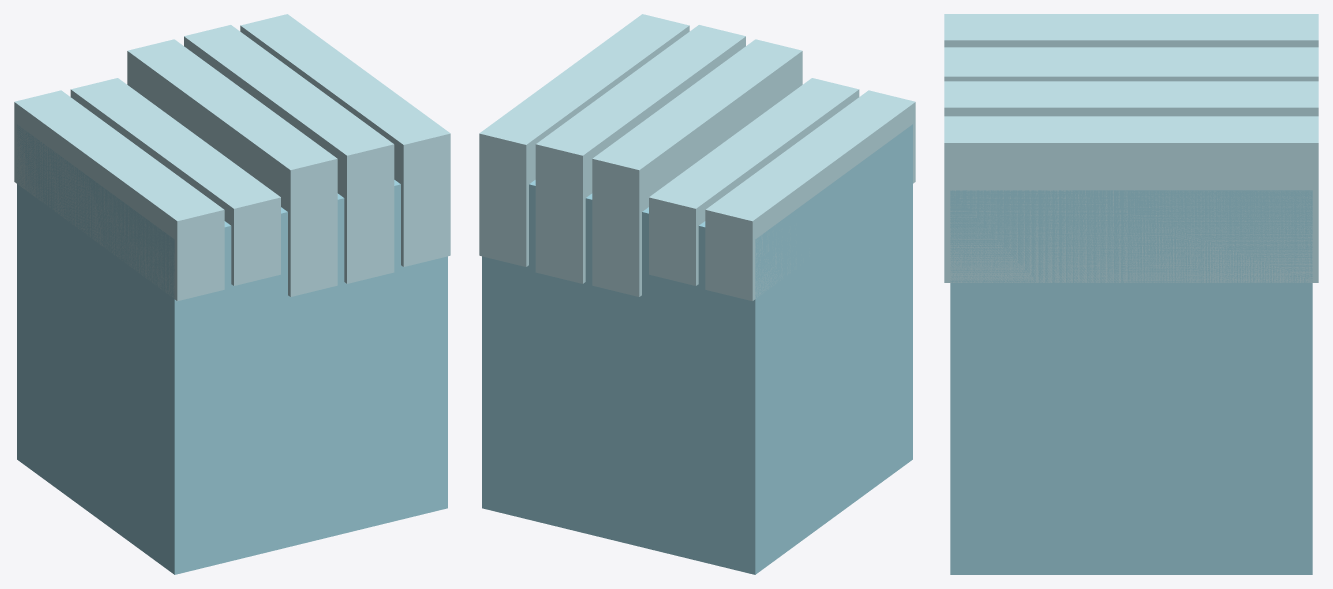
File: fantasma_manga_sup.glb
3 renders of one model, left to right at view 1: azimuth 30°, elevation 25°; view 2: azimuth 150°, elevation 25°; view 3: azimuth 270°, elevation 25°, orthographic. The views are drawn at different scales.
Visible parts, largest first — view 1: fantasma_manga_sup; view 2: fantasma_manga_sup; view 3: fantasma_manga_sup.
Part boxes in pixels (left/top/right/bottom): fantasma_manga_sup: left=14, top=14, right=450, bottom=574; fantasma_manga_sup: left=479, top=14, right=915, bottom=574; fantasma_manga_sup: left=944, top=14, right=1318, bottom=574.
Size of the model in its own units: 0.29 by 0.385 by 0.3.
